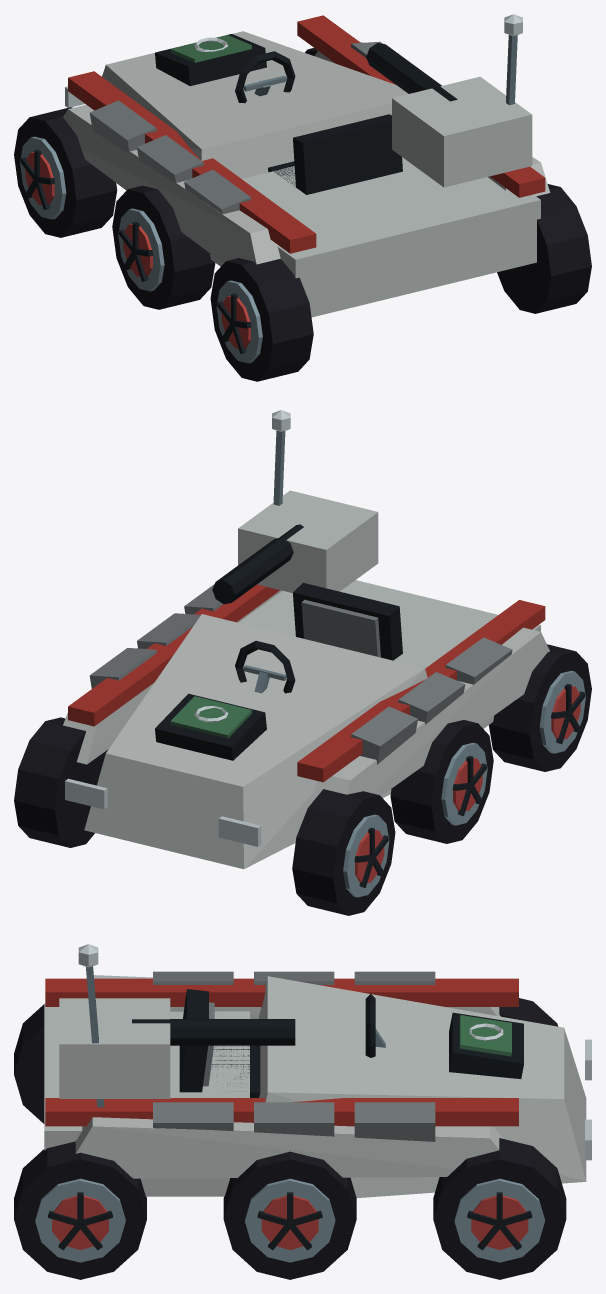
The model's file is kart.glb.
The picture shows the model from 3 angles, top to bottom: view 1: azimuth 30°, elevation 25°; view 2: azimuth 150°, elevation 25°; view 3: azimuth 270°, elevation 25°; orthographic projection. The views are drawn at different scales.
Visible parts, largest first — view 1: identity-mako-mako-wedge-rover, wheel-rear-left, wheel-front-left, wheel-middle-left, identity-mako-driver-cockpit, wheel-rear-right, identity-mako-motif-armor, identity-mako-motif-scanner, identity-mako-motif-antenna; view 2: identity-mako-mako-wedge-rover, wheel-front-left, wheel-middle-left, identity-mako-motif-armor, wheel-rear-left, wheel-front-right, identity-mako-driver-cockpit, identity-mako-motif-scanner, identity-mako-motif-antenna; view 3: identity-mako-mako-wedge-rover, wheel-front-right, wheel-rear-right, wheel-middle-right, identity-mako-motif-armor, identity-mako-motif-scanner, identity-mako-driver-cockpit, wheel-rear-left, identity-mako-motif-antenna, wheel-front-left.
Boxes of the visible parts, <box> form: identity-mako-mako-wedge-rover: <box>63,15,550,317</box>; wheel-rear-left: <box>210,258,313,381</box>; wheel-front-left: <box>14,107,117,237</box>; wheel-middle-left: <box>112,185,215,309</box>; identity-mako-driver-cockpit: <box>235,51,402,194</box>; wheel-rear-right: <box>497,184,591,313</box>; identity-mako-motif-armor: <box>89,41,382,214</box>; identity-mako-motif-scanner: <box>155,34,266,86</box>; identity-mako-motif-antenna: <box>504,14,522,105</box>; identity-mako-mako-wedge-rover: <box>63,490,549,869</box>; wheel-front-left: <box>292,789,395,915</box>; wheel-middle-left: <box>390,720,493,843</box>; identity-mako-motif-armor: <box>89,584,512,764</box>; wheel-rear-left: <box>489,644,591,771</box>; wheel-front-right: <box>14,717,108,847</box>; identity-mako-driver-cockpit: <box>235,582,402,693</box>; identity-mako-motif-scanner: <box>155,693,266,760</box>; identity-mako-motif-antenna: <box>272,410,290,505</box>; identity-mako-mako-wedge-rover: <box>44,975,591,1197</box>; wheel-front-right: <box>433,1138,566,1279</box>; wheel-rear-right: <box>14,1141,146,1279</box>; wheel-middle-right: <box>223,1151,356,1279</box>; identity-mako-motif-armor: <box>153,971,435,1141</box>; identity-mako-motif-scanner: <box>449,1012,523,1078</box>; identity-mako-driver-cockpit: <box>179,989,385,1097</box>; wheel-rear-left: <box>14,1004,44,1123</box>; identity-mako-motif-antenna: <box>78,944,104,1107</box>; wheel-front-left: <box>499,998,558,1026</box>.
Size of the model in its own units: 2.07 by 1.72 by 2.87.
